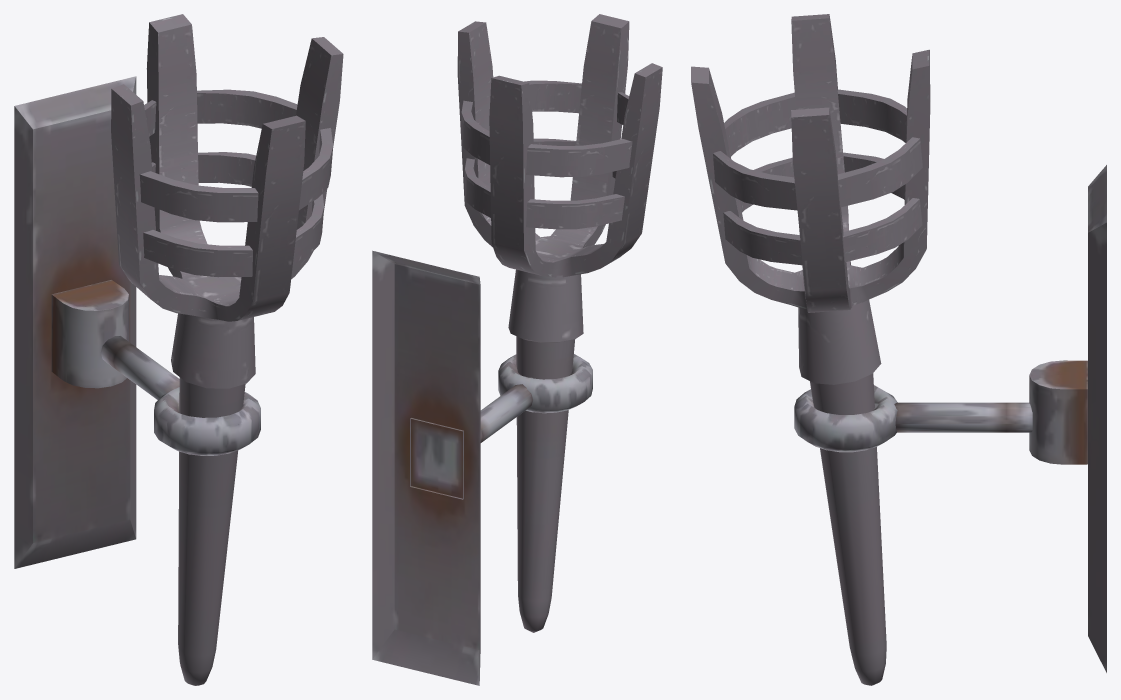
Rendered from Torch_Metal.glb.
The picture shows the model from 3 angles, left to right: view 1: azimuth 30°, elevation 25°; view 2: azimuth 150°, elevation 25°; view 3: azimuth 270°, elevation 25°; orthographic projection. The views are drawn at different scales.
Parts seen in each view (by area): view 1: Torch_Metal; view 2: Torch_Metal; view 3: Torch_Metal.
Boxes of the visible parts, x1,y1,x2,y2 form: Torch_Metal: (14,14,343,685); Torch_Metal: (372,14,662,685); Torch_Metal: (691,14,1106,685).
Bounding box in the file's own units: 0.2231 × 0.6482 × 0.3884.
1 material, 1 textured.
